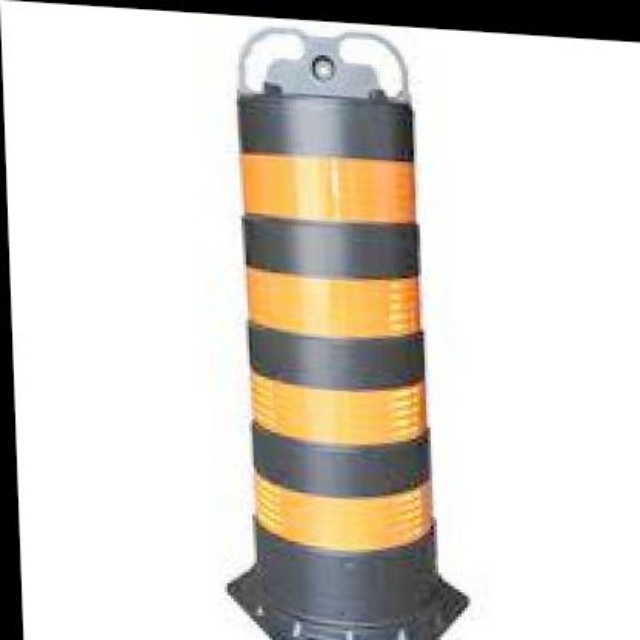obstacle: (190, 84, 470, 627)
